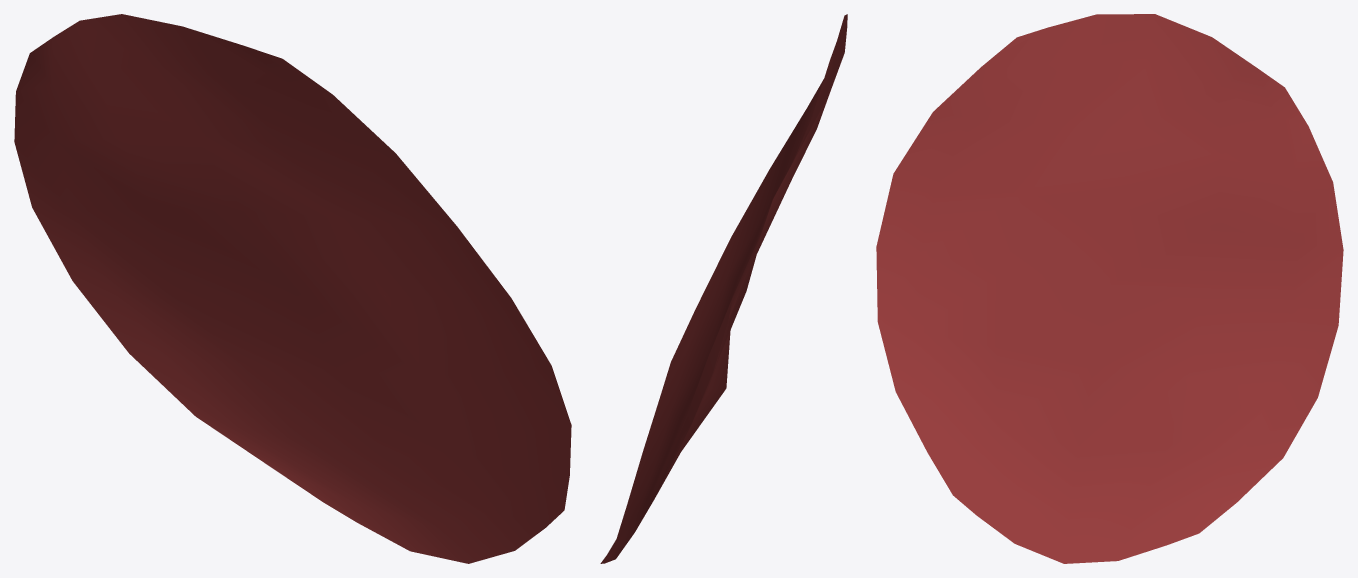
Rendered from semimembranosus-bursa-l.glb.
3 renders of one model, left to right at view 1: azimuth 30°, elevation 25°; view 2: azimuth 150°, elevation 25°; view 3: azimuth 270°, elevation 25°, orthographic. The views are drawn at different scales.
Parts seen in each view (by area): view 1: Semimembranosus bursa.l; view 2: Semimembranosus bursa.l; view 3: Semimembranosus bursa.l.
Part boxes in pixels (x1,y1,x2,y2): Semimembranosus bursa.l: (14,14,571,563); Semimembranosus bursa.l: (600,14,847,563); Semimembranosus bursa.l: (876,14,1343,563).
Size of the model in its own units: 0.0116 by 0.0207 by 0.0192.
